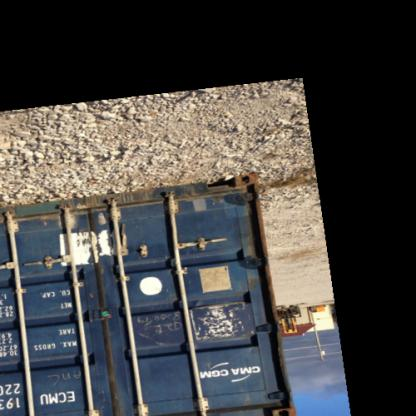Damage: (57, 211, 127, 273), (190, 294, 249, 344), (132, 302, 182, 358), (209, 181, 259, 219), (46, 367, 84, 394)
